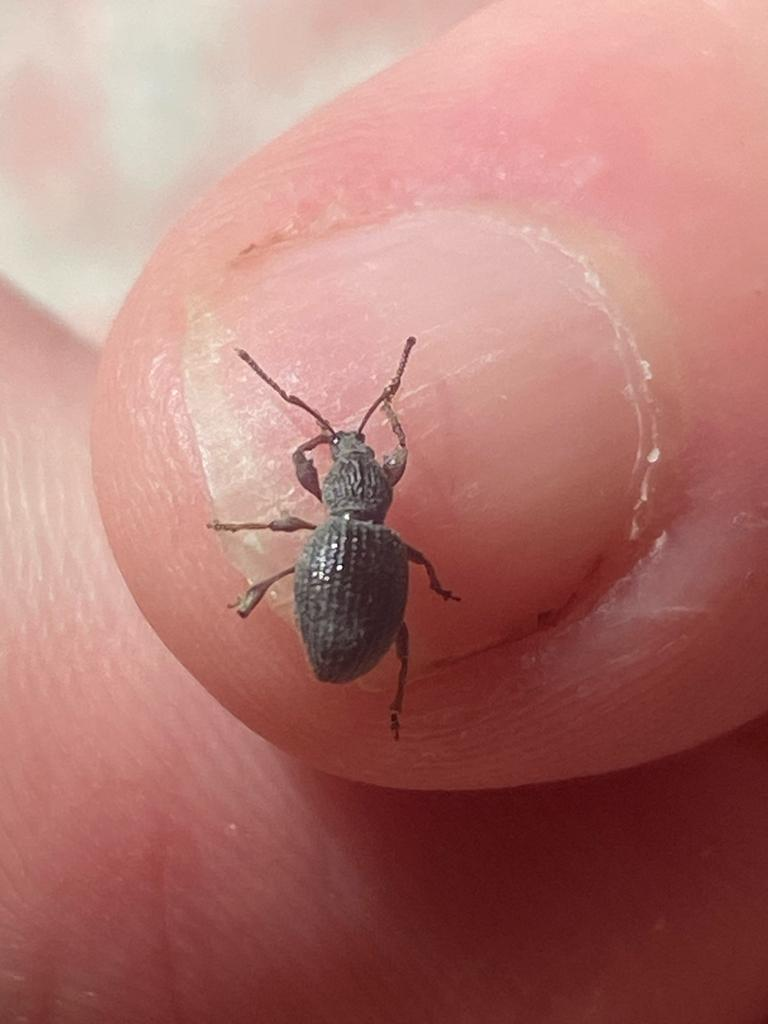weevils: (157, 294, 549, 789)
